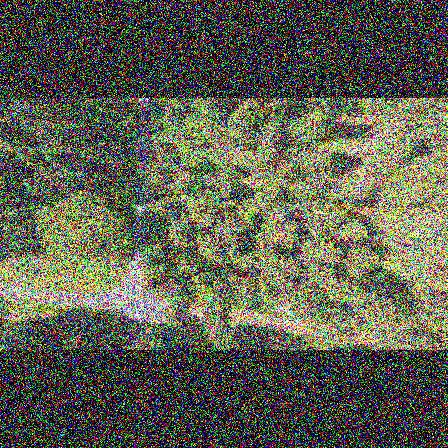Sick: (342, 177, 374, 201), (384, 145, 409, 171), (219, 219, 243, 245)
